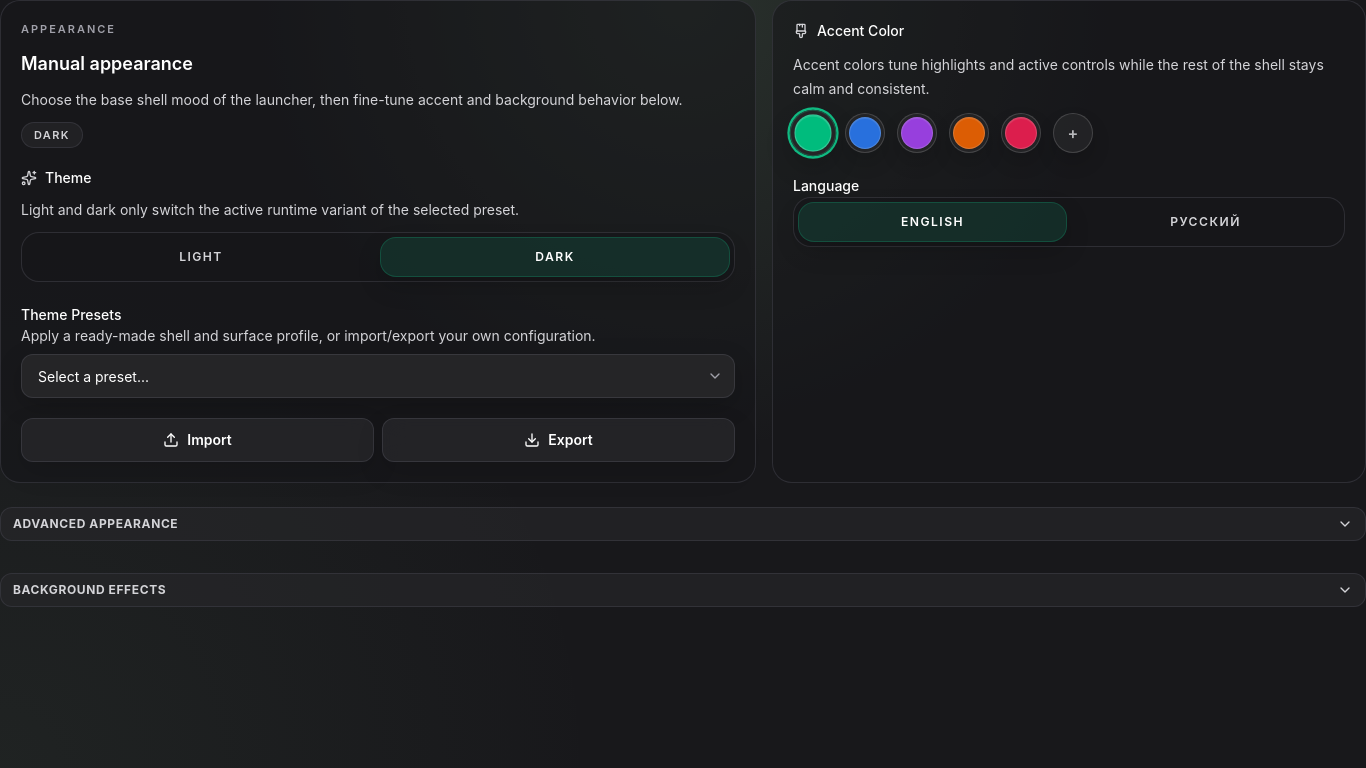
Test: AppearanceTab preset contract › keeps an explicitly chosen mode when switching between preset families
Select "Navy" in the dropdown named "Theme Presets" at (378, 376), box [21, 354, 735, 398]
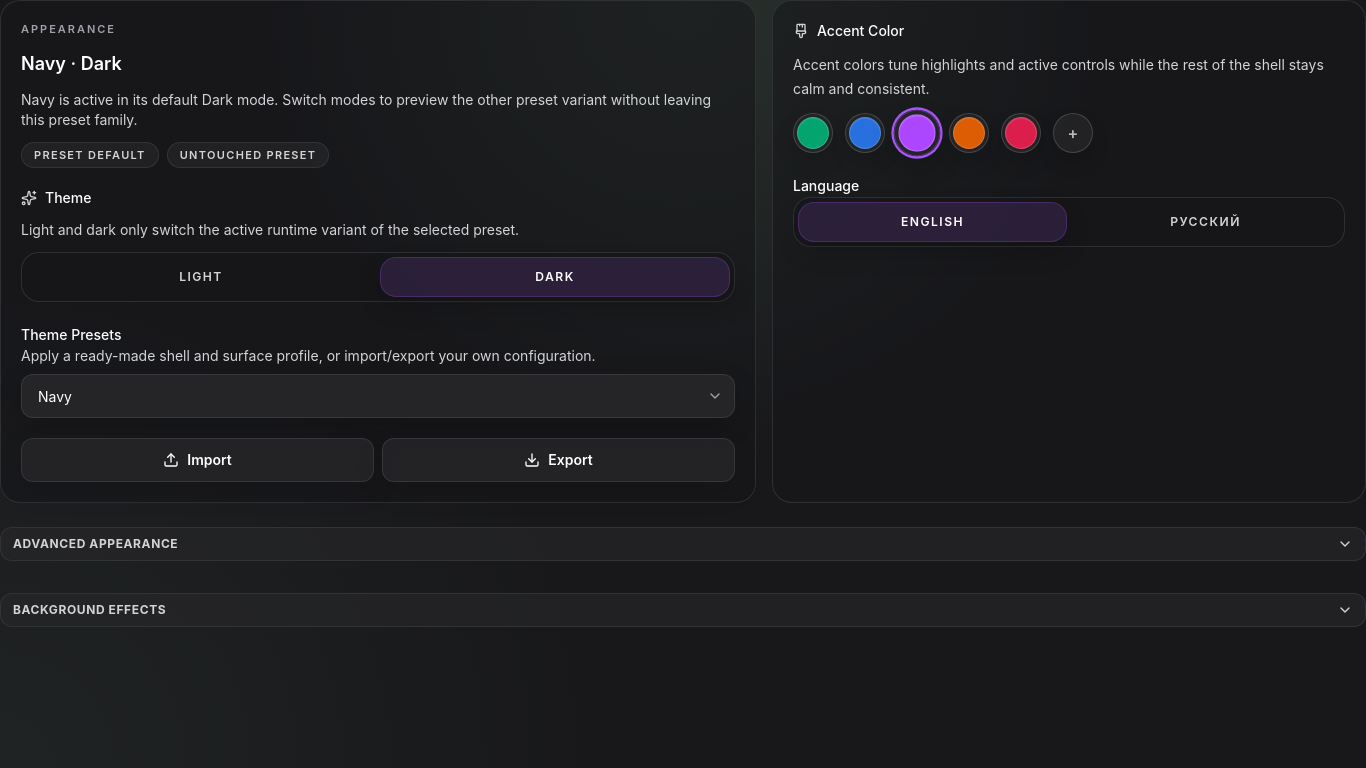
Click the button "Light" at (201, 277), box [26, 257, 376, 297]
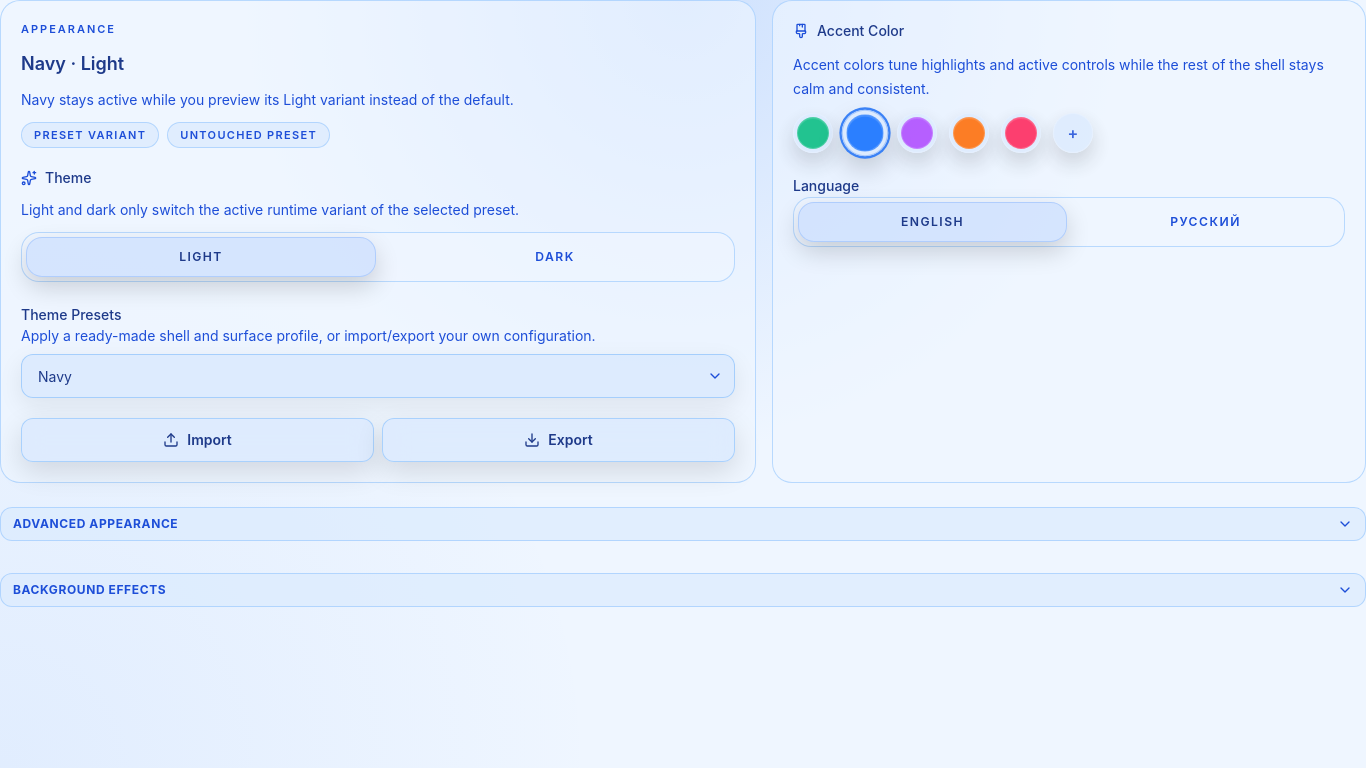
Select "Forest" in the dropdown named "Theme Presets" at (378, 376), box [21, 354, 735, 398]
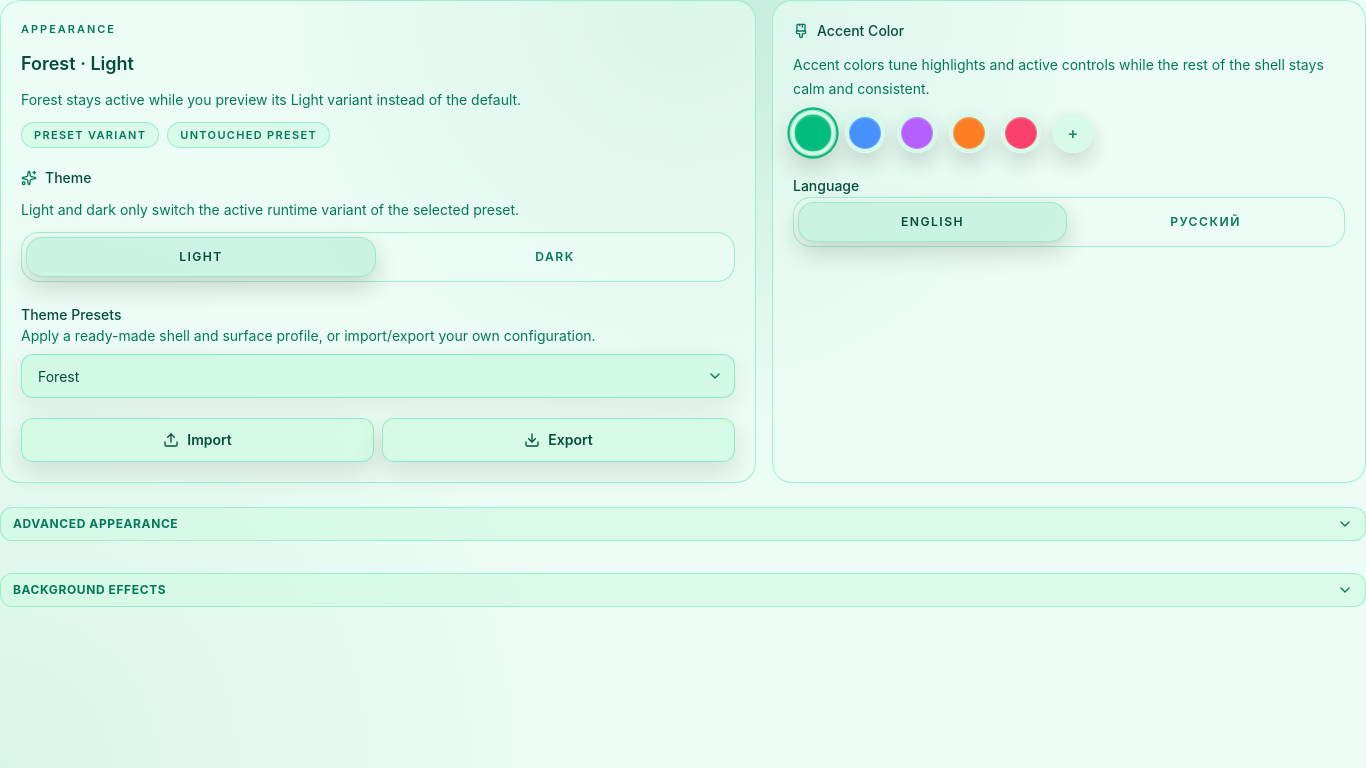
Now the text "Preset variant" is shown, box [21, 122, 159, 148]
Now the heading "Forest · Light" is shown, box [21, 50, 134, 78]
